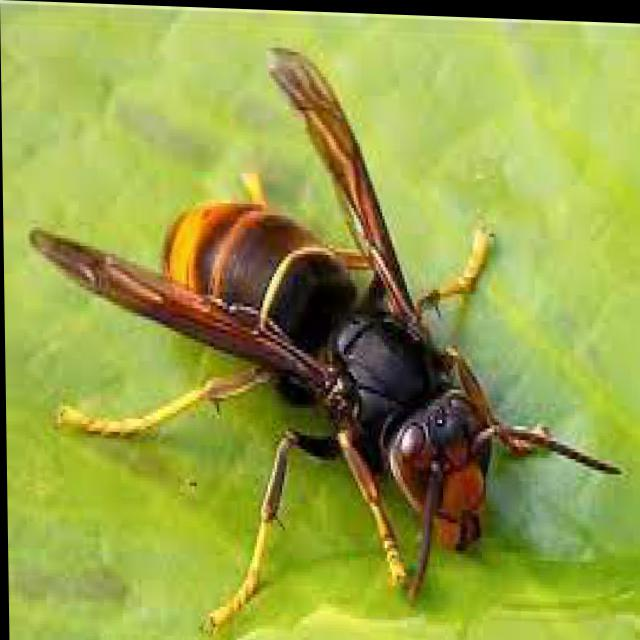Vespa Velutina: (16, 24, 631, 639)
